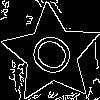O: (26, 28, 85, 86)
